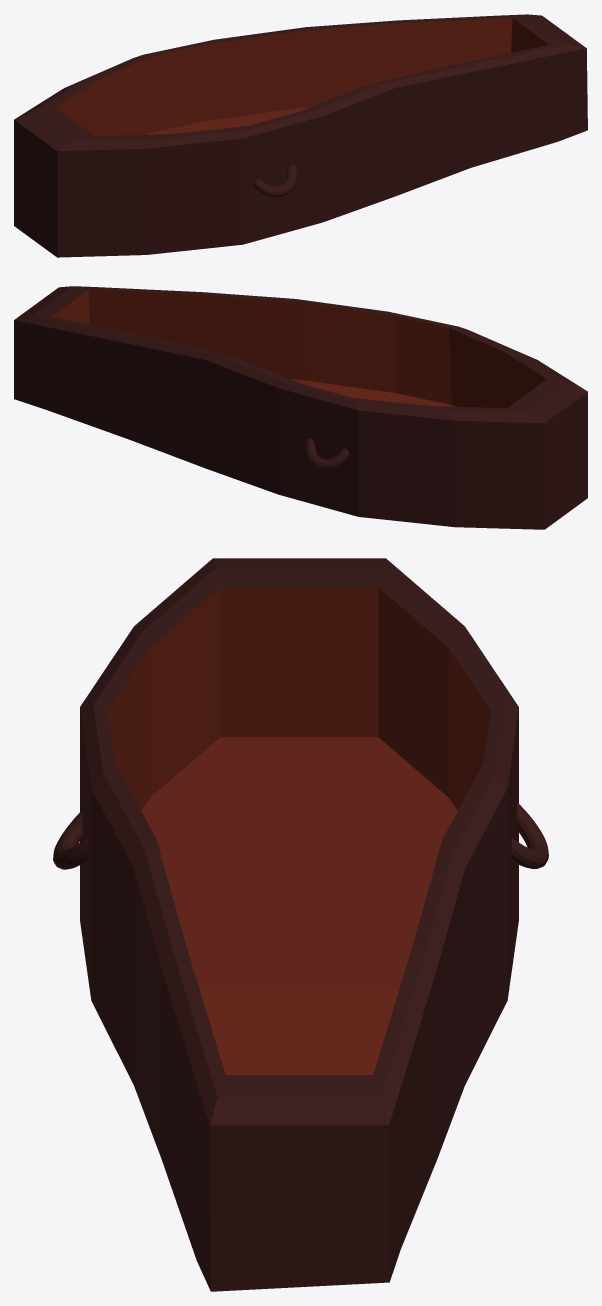
The model's file is Coffin2.fbx.
3 views of the same model, one above another, from view 1: azimuth 30°, elevation 25°; view 2: azimuth 150°, elevation 25°; view 3: azimuth 270°, elevation 25° (orthographic). The views are drawn at different scales.
Parts seen in each view (by area): view 1: Coffin2; view 2: Coffin2; view 3: Coffin2.
Part boxes in pixels (left/top/right/bottom): Coffin2: left=14, top=14, right=587, bottom=257; Coffin2: left=14, top=286, right=587, bottom=529; Coffin2: left=53, top=558, right=548, bottom=1291.
Bounding box in the file's own units: 936 × 192 × 379.
